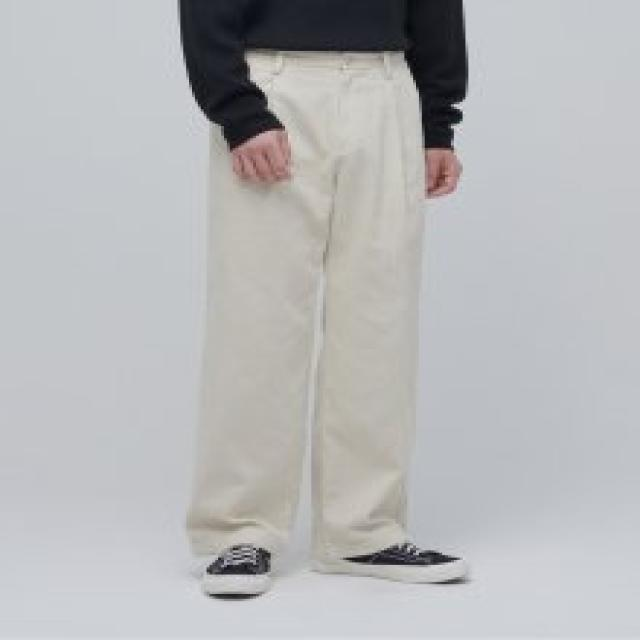long-pants: (190, 49, 422, 557)
